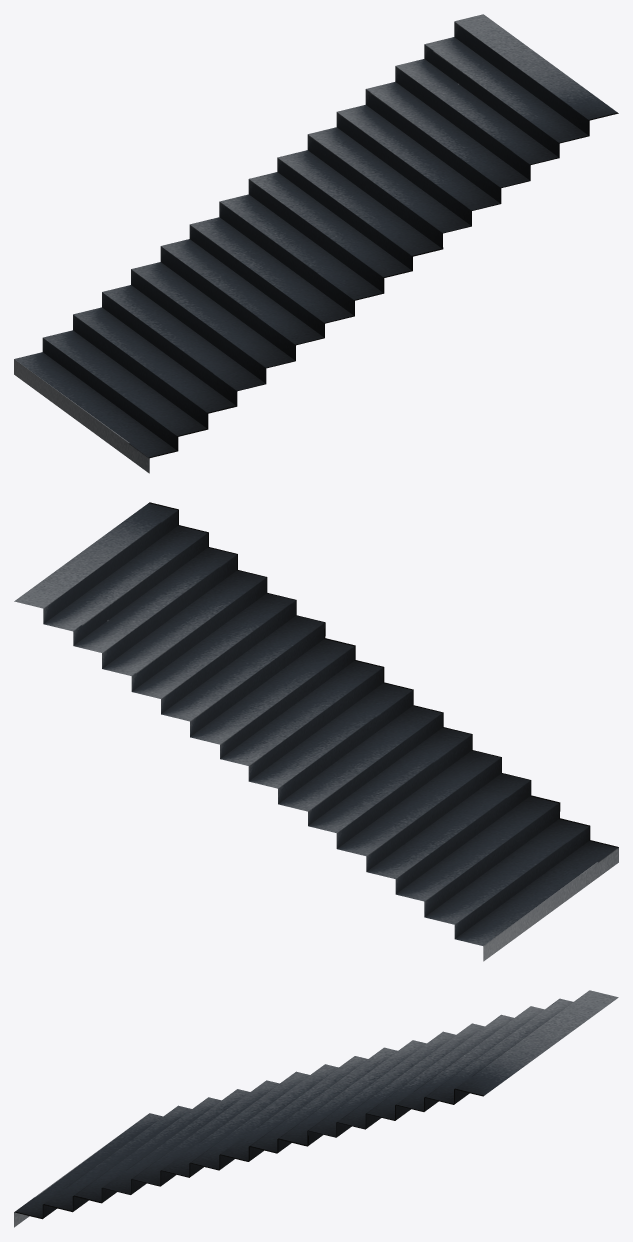
File: Stair_Full.fbx
The picture shows the model from 3 angles, top to bottom: view 1: azimuth 30°, elevation 25°; view 2: azimuth 150°, elevation 25°; view 3: azimuth 330°, elevation 25°; orthographic projection.
Visible parts, largest first — view 1: polySurface25; view 2: polySurface25; view 3: polySurface25.
Boxes of the visible parts, box(x1,y1,x2,y2) form: polySurface25: box(14, 14, 618, 473); polySurface25: box(14, 502, 618, 961); polySurface25: box(14, 990, 618, 1227).
Size of the model in its own units: 0.1 by 0.05 by 0.05.
